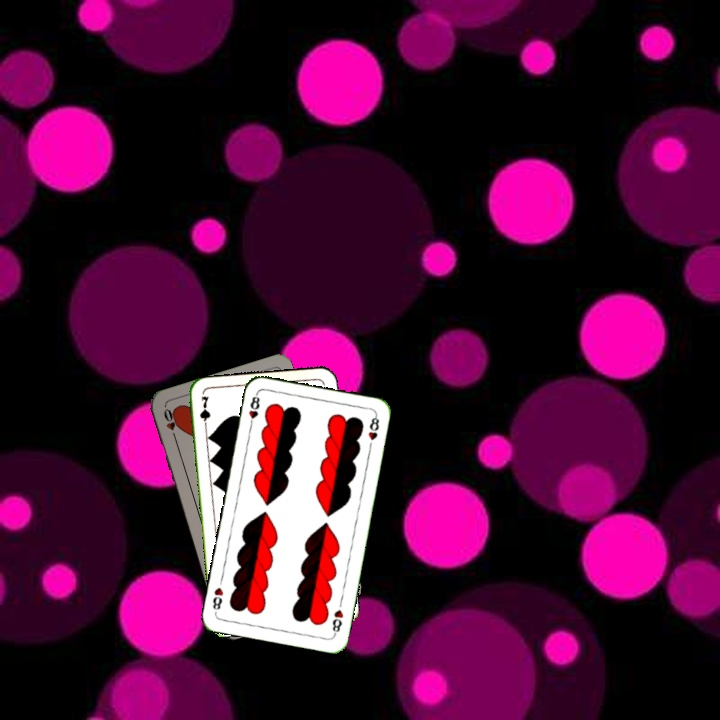G7: (196, 392, 213, 433)
H8: (245, 389, 262, 430), (328, 605, 346, 637)
HO: (160, 404, 180, 444)
